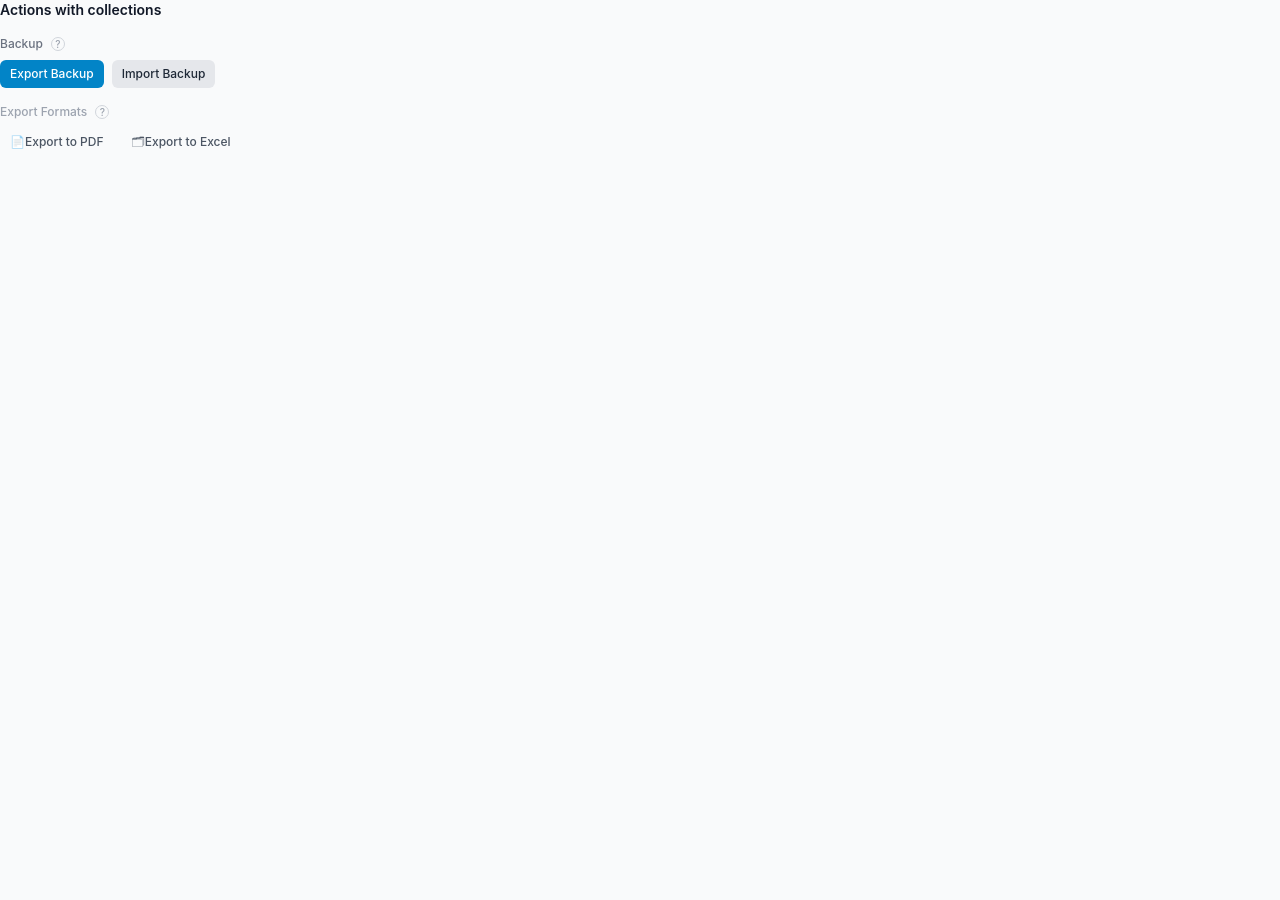
Test: BackupSection › opens import dialog when Import Backup is clicked
This screenshot has width=1280, height=900.
Click the button "Import Backup": (164, 74) [112,60,215,88]
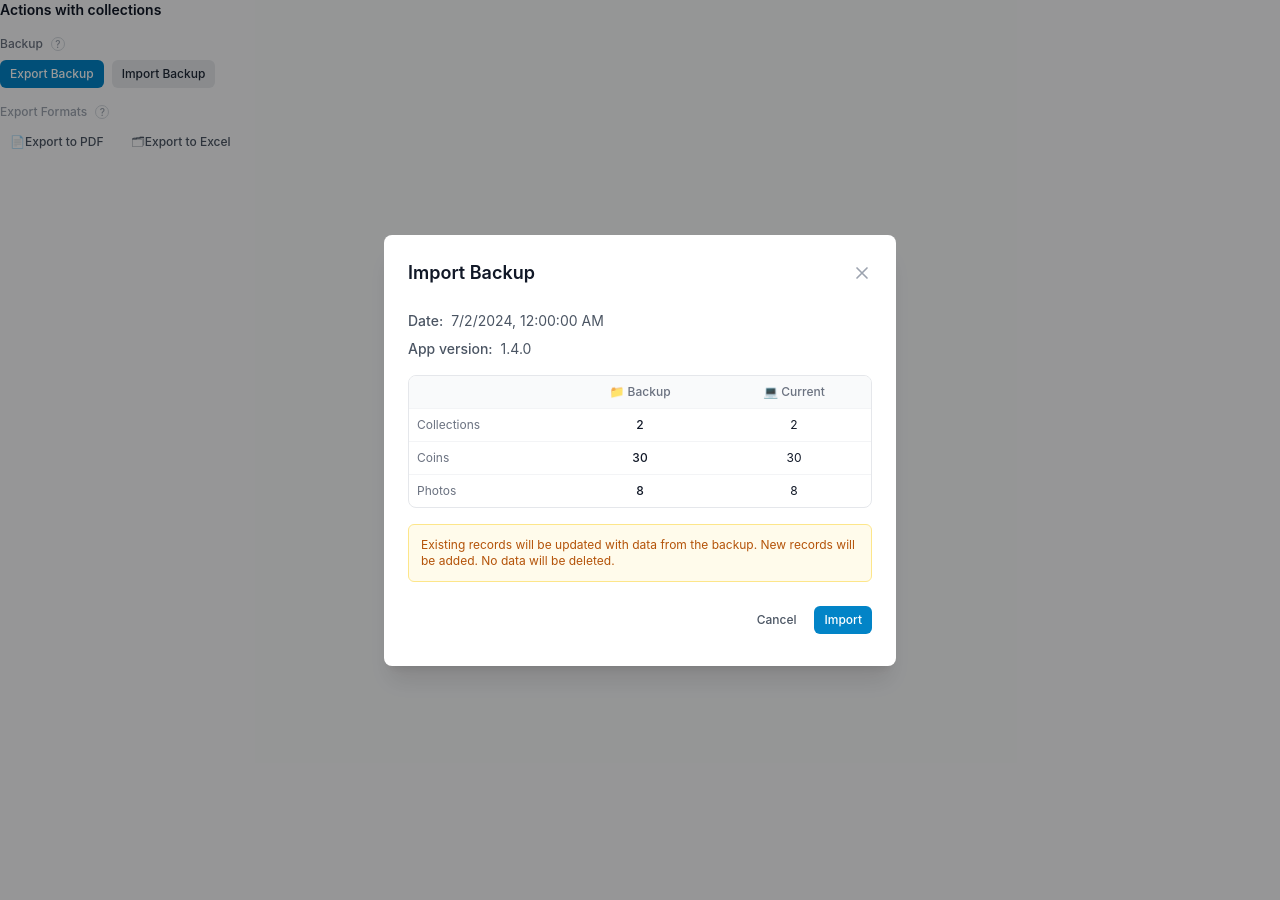
Expected: the text "1.4.0" is shown, [501,338,531,358]
